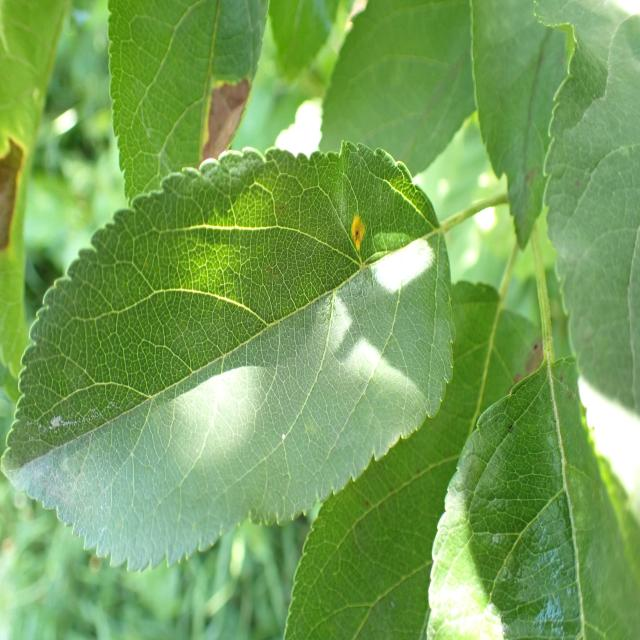rust: (0, 139, 456, 576)
